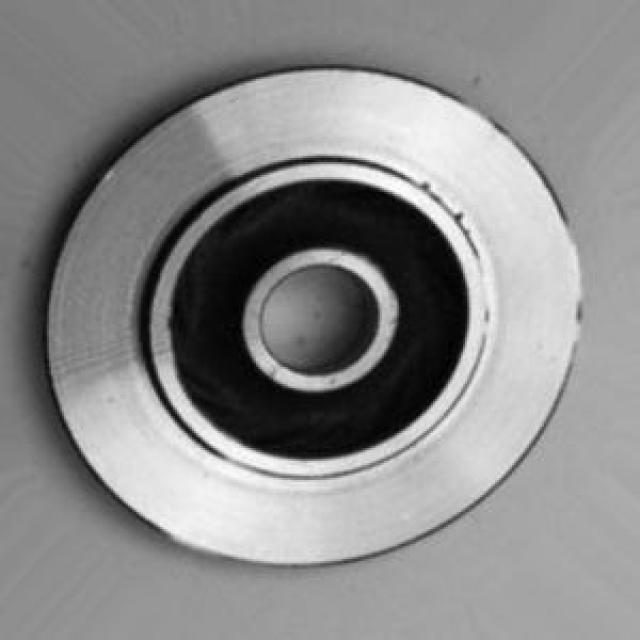Defect: (420, 174, 439, 198)
